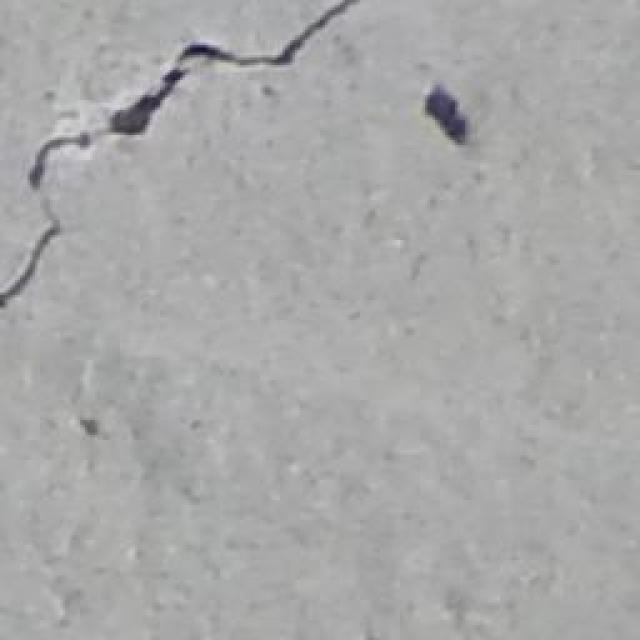concrete-crack: (0, 0, 366, 320), (422, 82, 472, 148)
